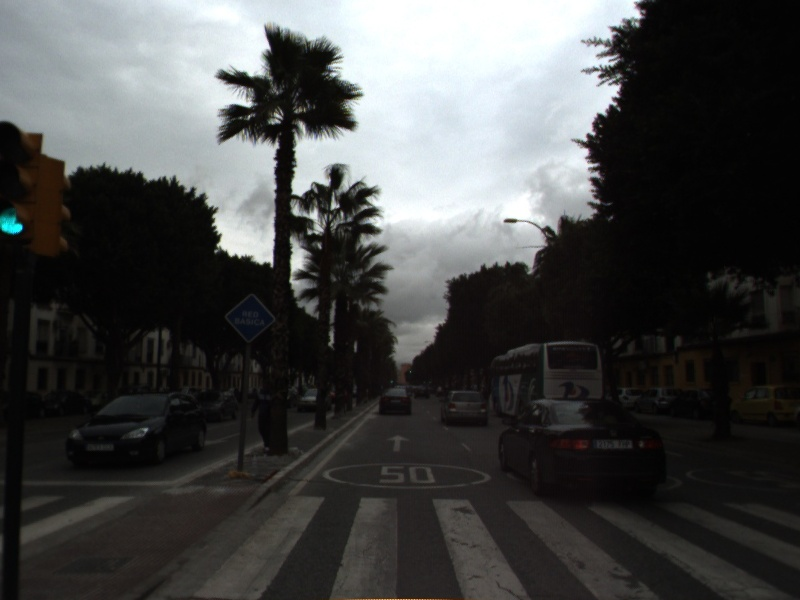STRAIGHT: (384, 432, 412, 454)
